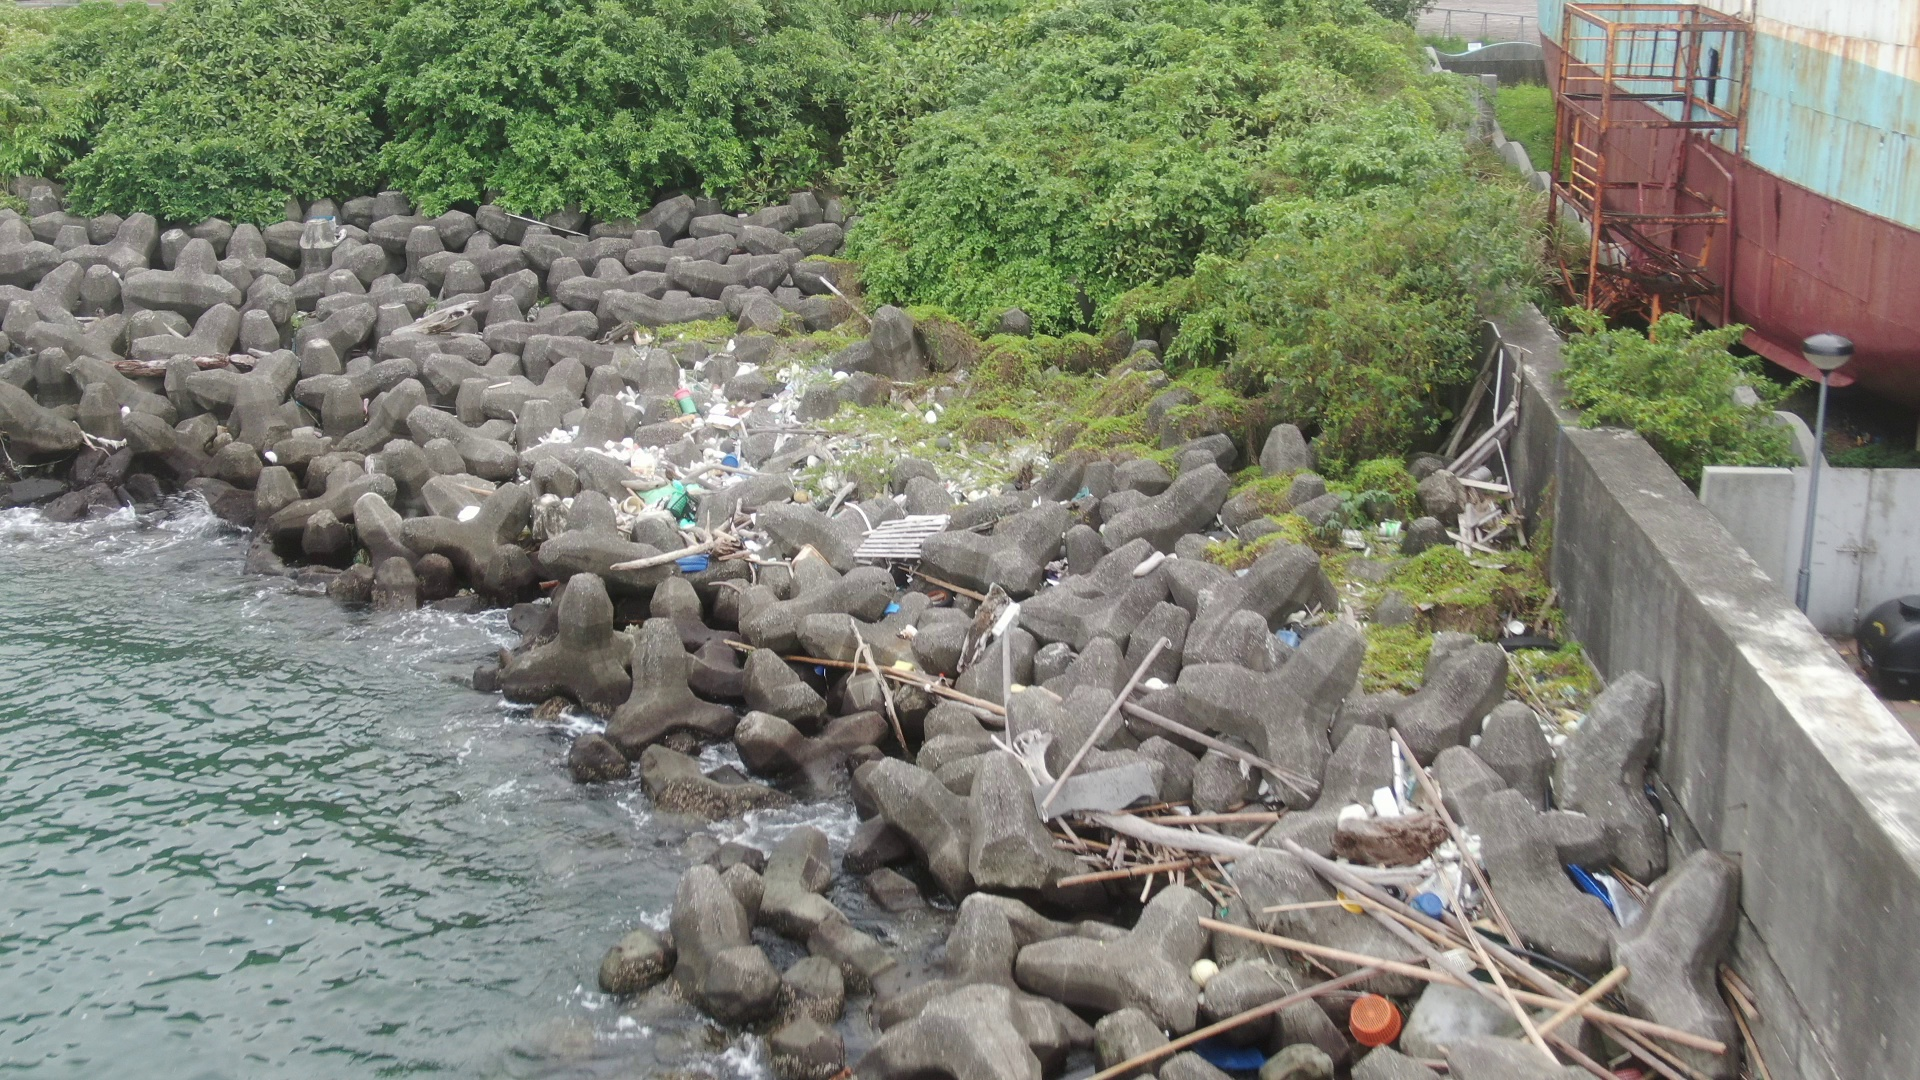garbage: (509, 320, 968, 564), (1270, 727, 1542, 1080), (796, 560, 1135, 818), (1542, 820, 1687, 969), (1166, 944, 1275, 1077), (1495, 617, 1580, 661), (1373, 510, 1414, 543)
